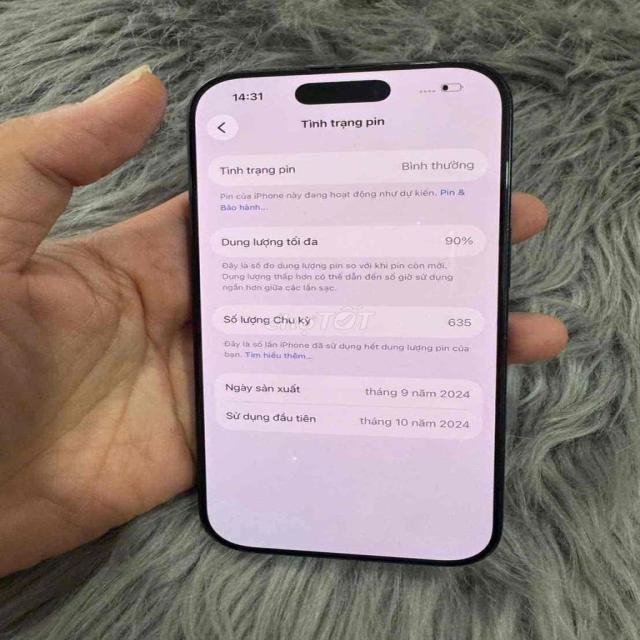gen_16: (189, 62, 512, 564)
scratch: (209, 50, 467, 84)
